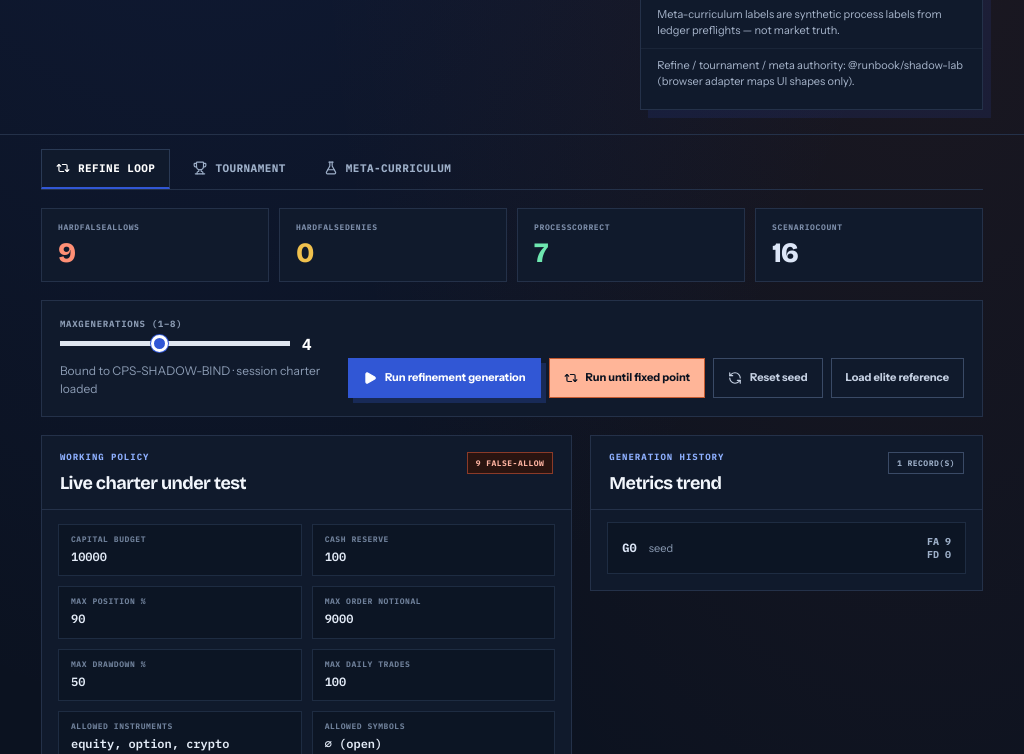
Test case: Shadow Process Lab › binds ?sessionId= charter and writes fixed-point results back to session
(page scrolled)
Expected: the element named "Hard false allows" reads "hardFalseAllows 9", [58,236,75,270]
Click the button "Run until fixed point" at coordinates (627, 378), box [549,358,705,398]
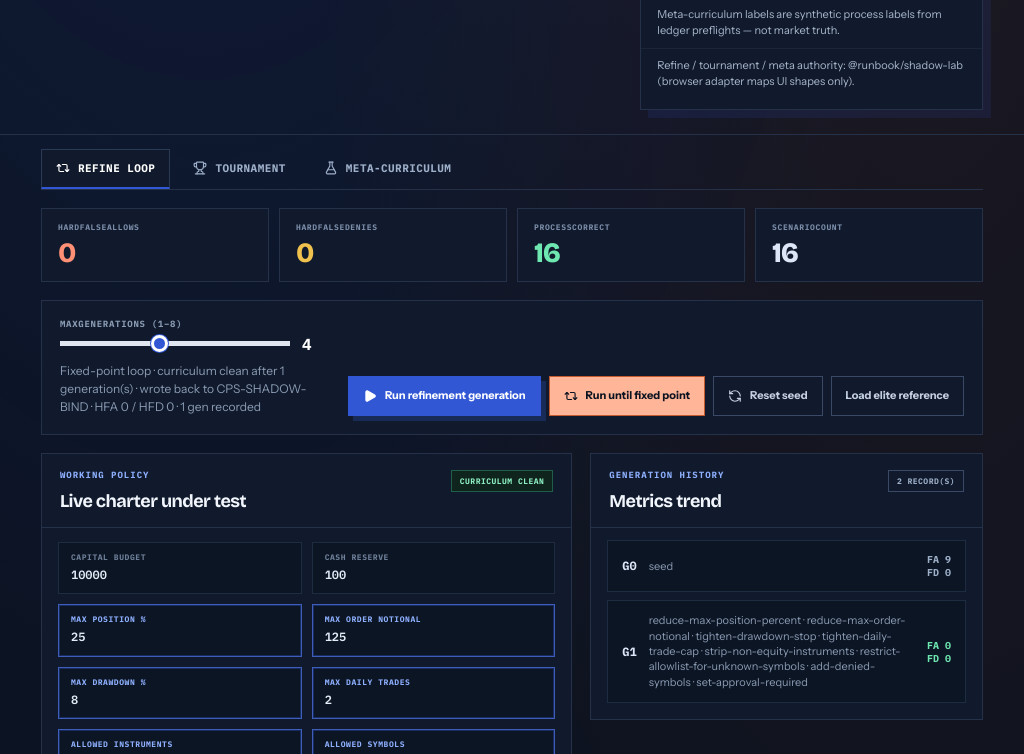
Result: the element named "Hard false allows" shows "0" at [58,236,75,270]
